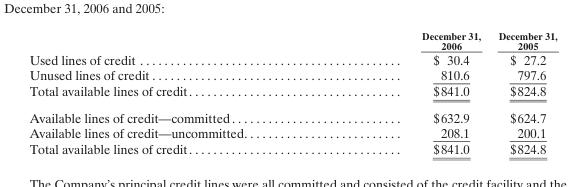table: (28, 28, 556, 156)
table column: (28, 28, 333, 156), (333, 28, 488, 156), (488, 28, 556, 156)
table column header: (28, 28, 556, 51)
table row: (28, 28, 556, 51), (28, 82, 556, 103), (28, 103, 556, 124), (28, 66, 556, 82), (28, 124, 556, 140), (28, 140, 556, 156), (28, 51, 556, 66)
